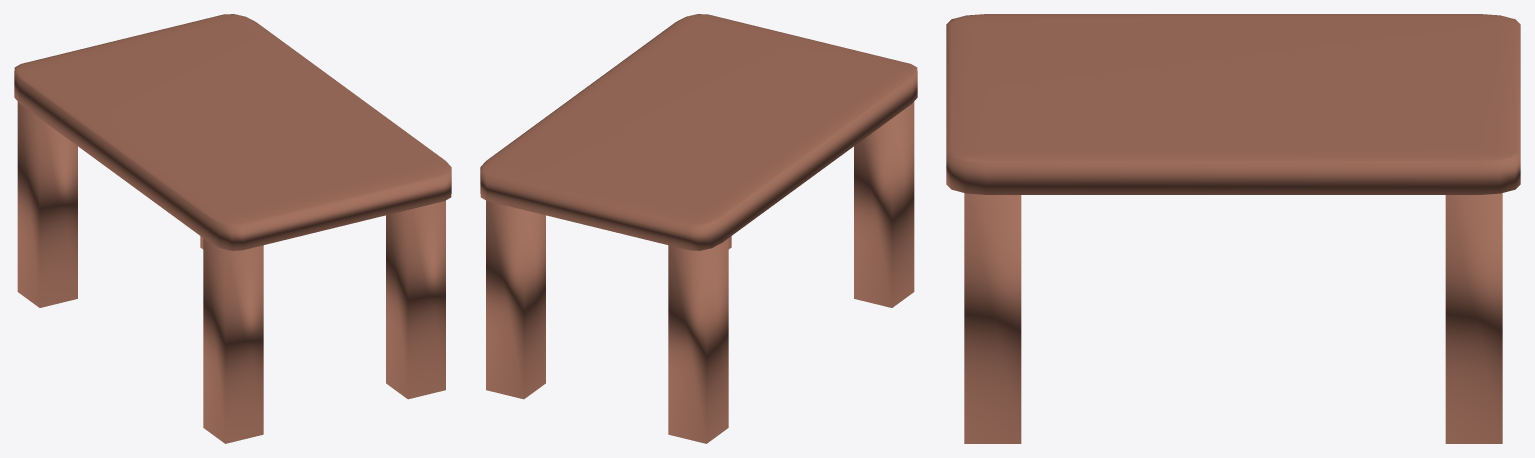
Rendered from Table.fbx.
3 views of the same model, side by side, from view 1: azimuth 30°, elevation 25°; view 2: azimuth 150°, elevation 25°; view 3: azimuth 270°, elevation 25° (orthographic). The views are drawn at different scales.
Visible parts, largest first — view 1: Cube; view 2: Cube; view 3: Cube.
Boxes of the visible parts, <box> form: Cube: <box>14,14,451,443</box>; Cube: <box>480,14,917,443</box>; Cube: <box>946,14,1520,443</box>.
Size of the model in its own units: 547 by 493 by 889.
